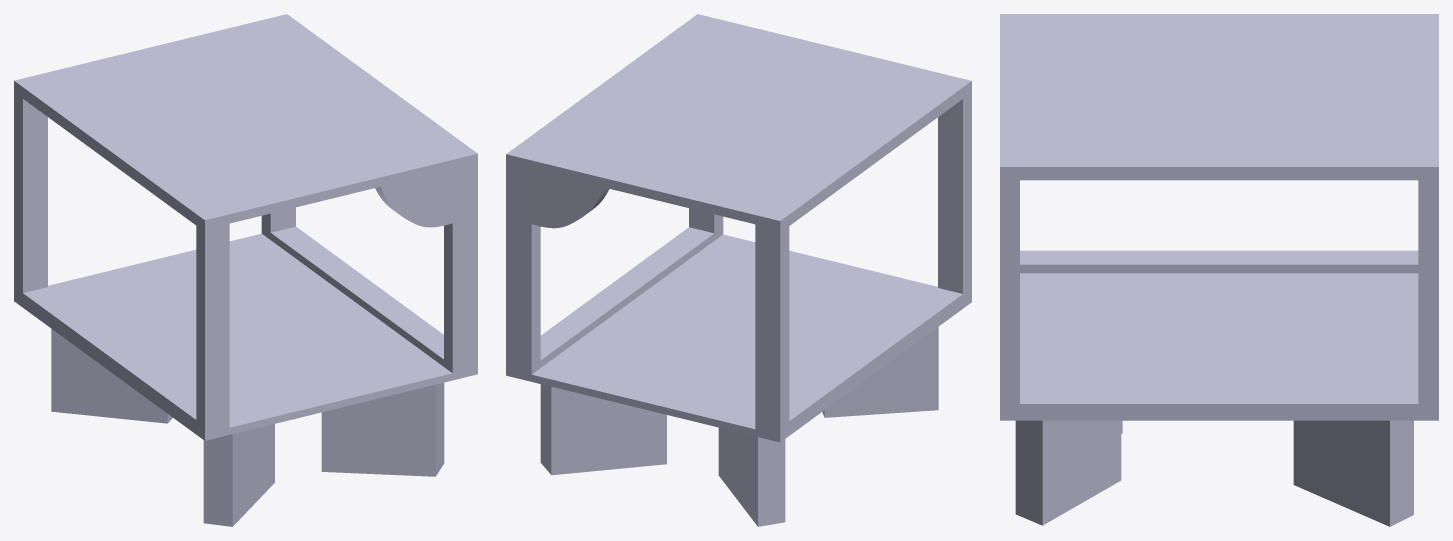
File: krytn_tray_ex_Kytrn_tray.dae
3 views of the same model, side by side, from view 1: azimuth 30°, elevation 25°; view 2: azimuth 150°, elevation 25°; view 3: azimuth 270°, elevation 25° (orthographic). The views are drawn at different scales.
Parts seen in each view (by area): view 1: node0; view 2: node0; view 3: node0.
Part boxes in pixels (x1,y1,x2,y2): node0: (14,14,477,526); node0: (506,14,971,526); node0: (1000,14,1438,526).
Size of the model in its own units: 0.2891 by 0.35 by 0.3232.
